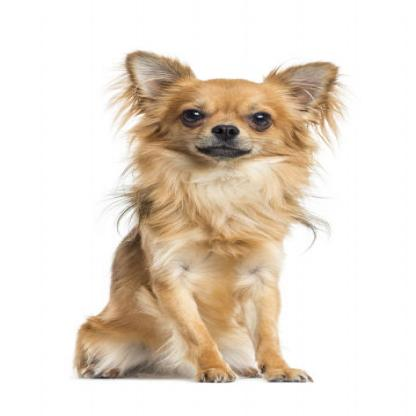Chihuahua: (23, 11, 402, 387)
